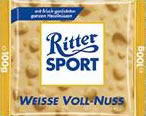grozi_67: (0, 0, 145, 116)
